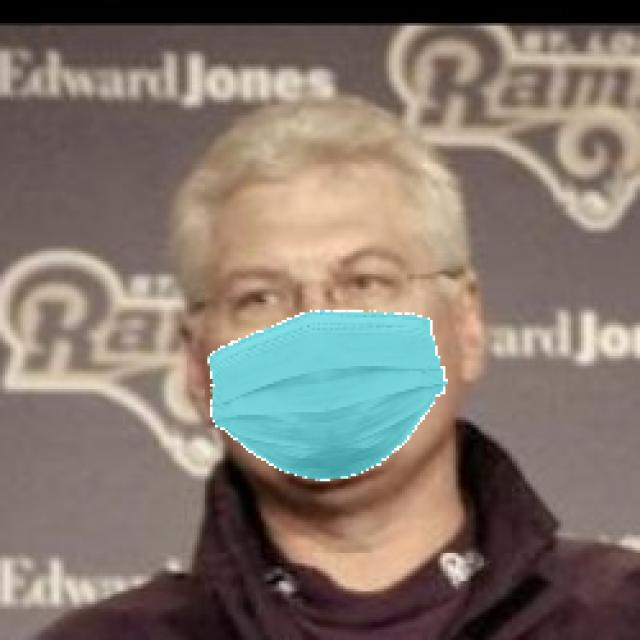mask: (189, 323, 458, 480)
